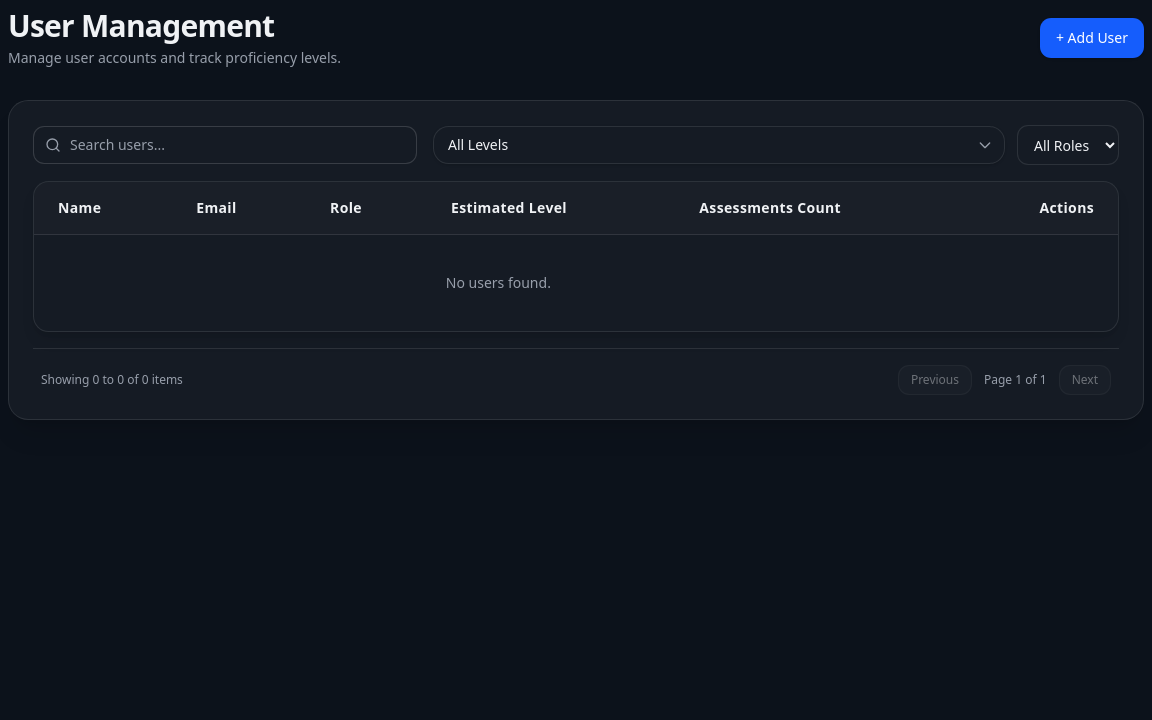
Test: /manageUsers page › opens the add modal and inserts the new user into the list
This screenshot has width=1152, height=720.
Expected: the text "No users found." is shown, x1=34 y1=234 x2=963 y2=330
Click the button "+ Add User".
click(1092, 38)  # box x1=1040 y1=18 x2=1144 y2=58
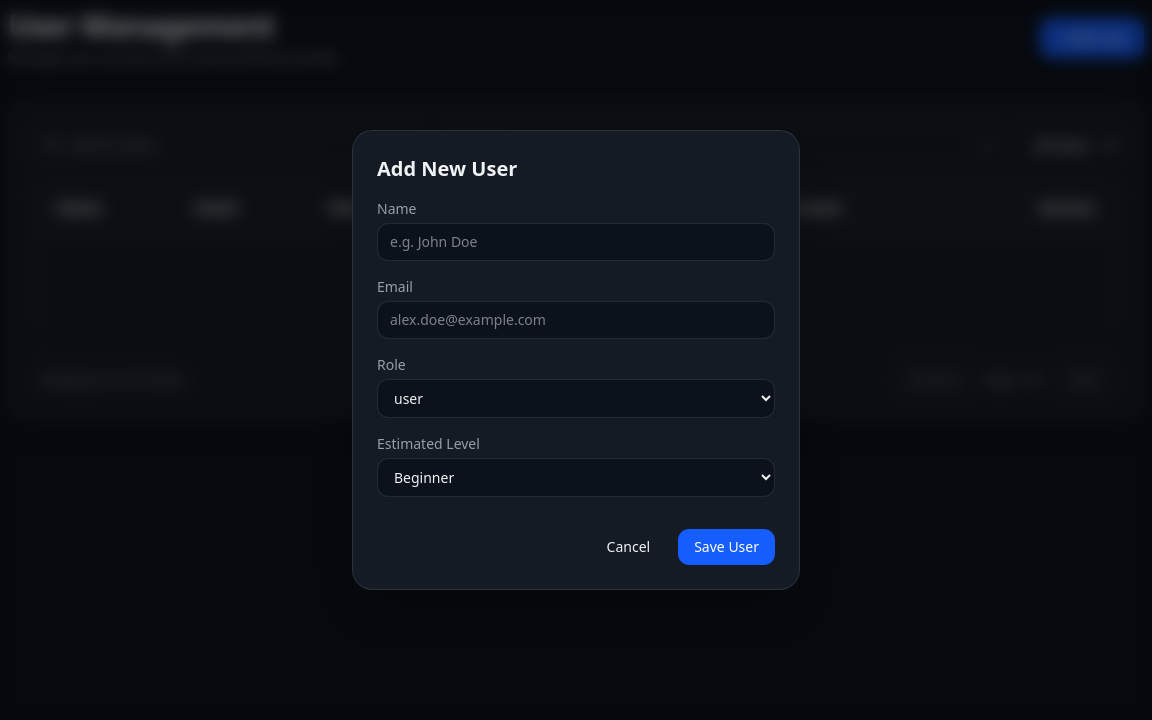
Expected: the heading "Add New User" is shown, x1=377 y1=155 x2=517 y2=182
